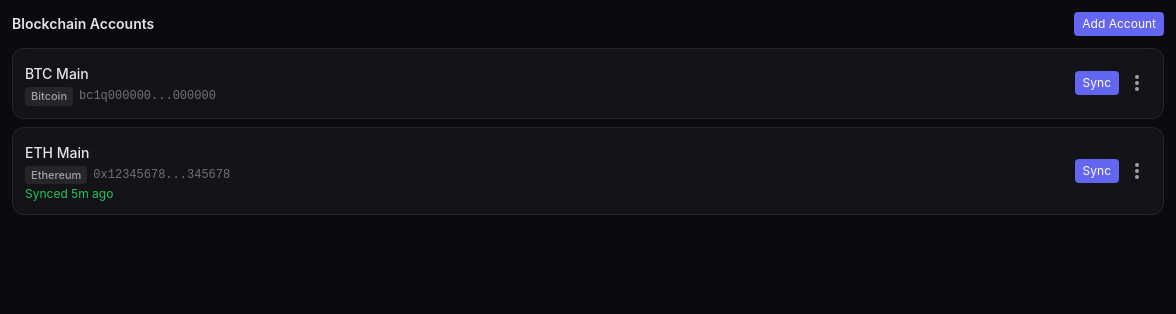
Test: WalletAccounts › syncs an account
Click the button "Sync" in the row of "bc1q000000...000000" at (1097, 83), box [1075, 71, 1119, 95]
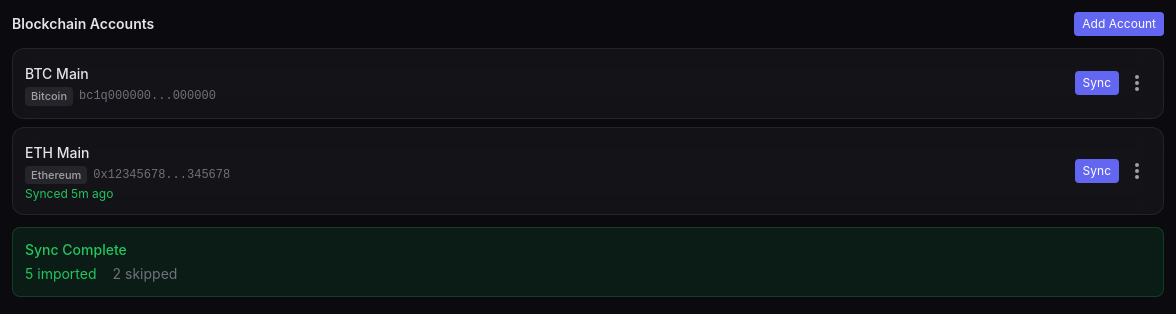
Expected: the text "Sync Complete" is shown, [25, 241, 127, 258]
Expected: the text "5 imported" is shown, [25, 264, 96, 284]
Expected: the text "2 skipped" is shown, [112, 264, 177, 284]
